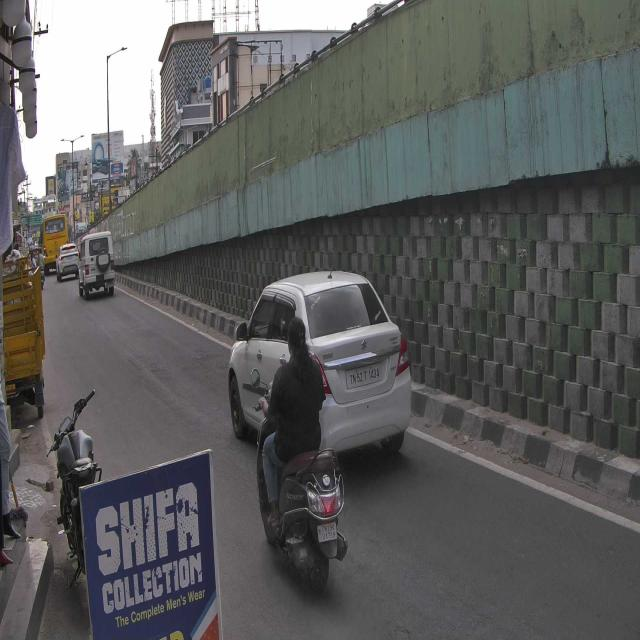single_rider: (250, 313, 349, 596)
